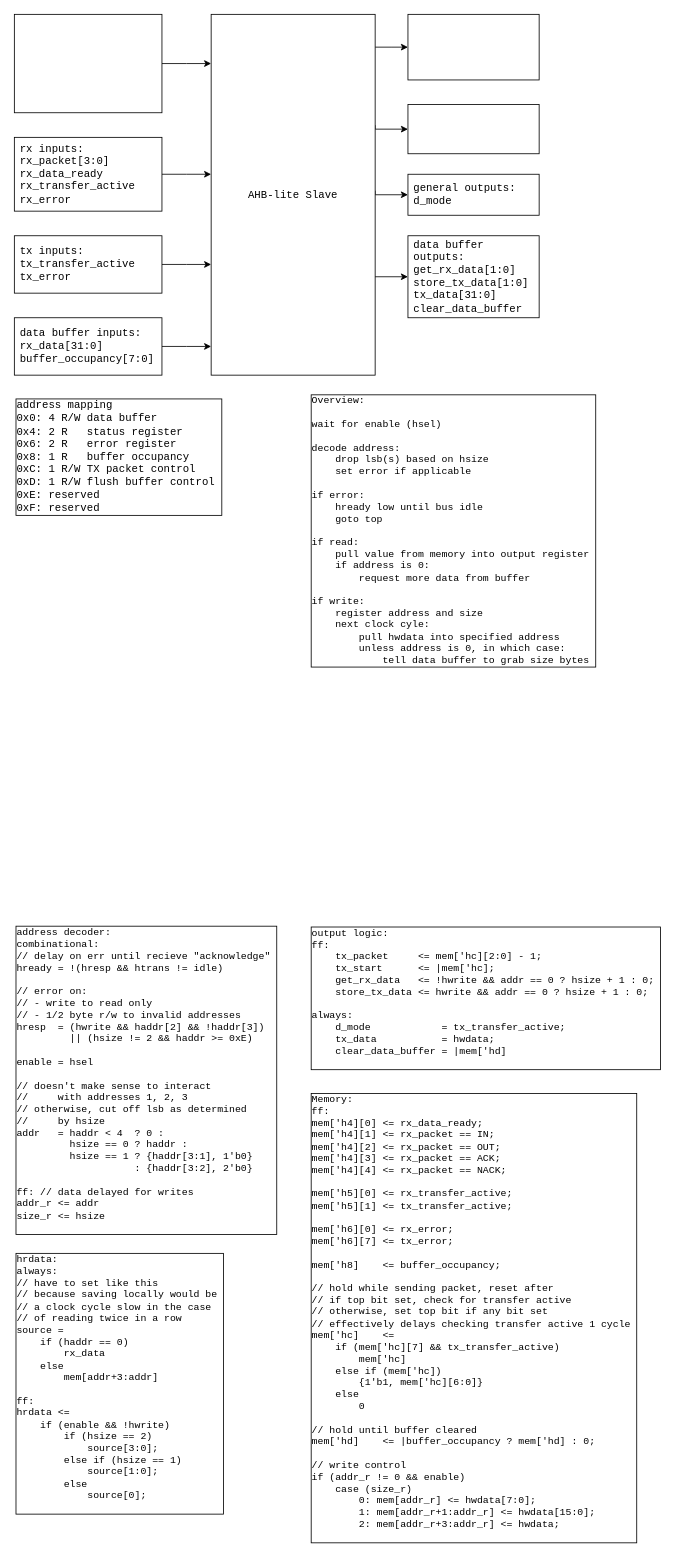
Some shapes in this 685 by 1557 pixel diagram are drawn without their labels. The shapes that lost their labels are listed below. From the top down, each one's centre as x and y in pixels, then its label:
At (88,63): "ahb inputs: hsel haddr[3:0] htrans[2:0] hsize[1:0] hwrite hwdata[31:0]".
At (473,47): "ahb outputs: hrdata[31:0] hresp hready".
At (473,129): "tx outputs: tx_packet[2:0] tx_start".
